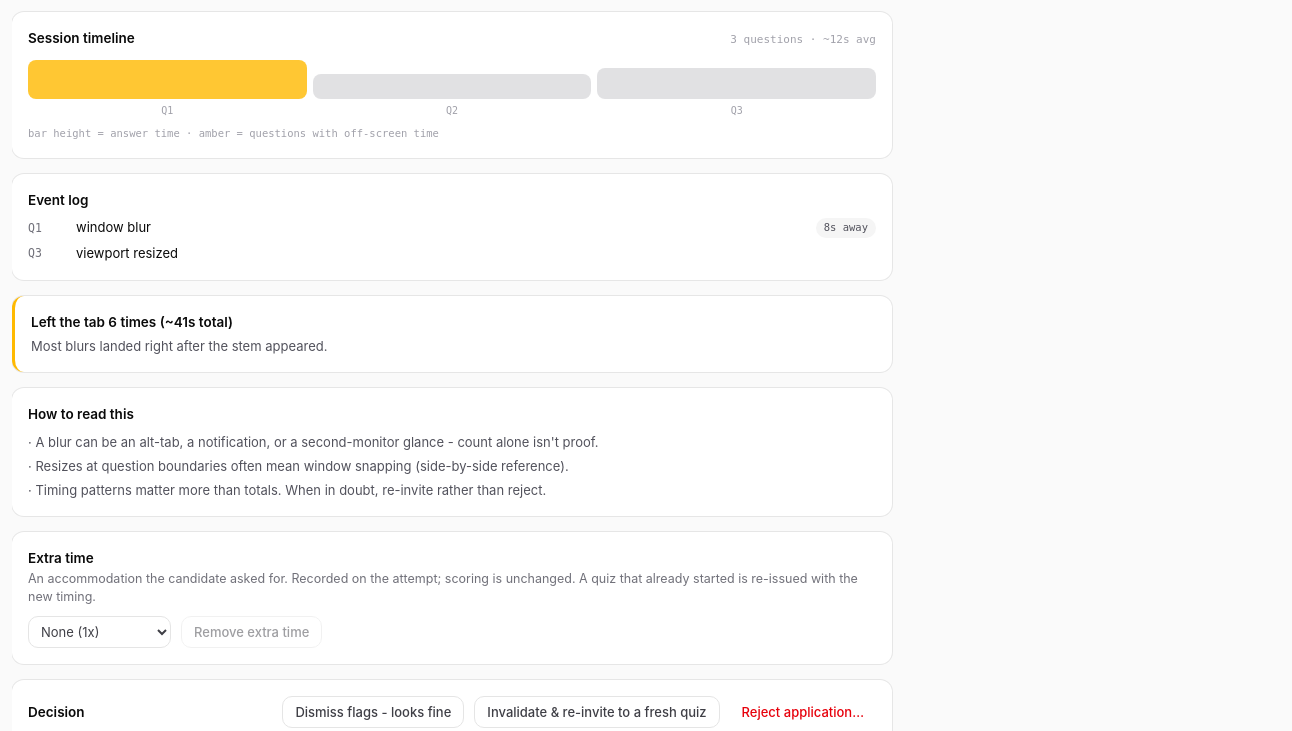
Test case: IntegrityReviewPage › re-invites only after an explicit confirm
(page scrolled)
Click the button "Invalidate & re-invite to a fresh quiz": (597, 712) [474,696,720,728]
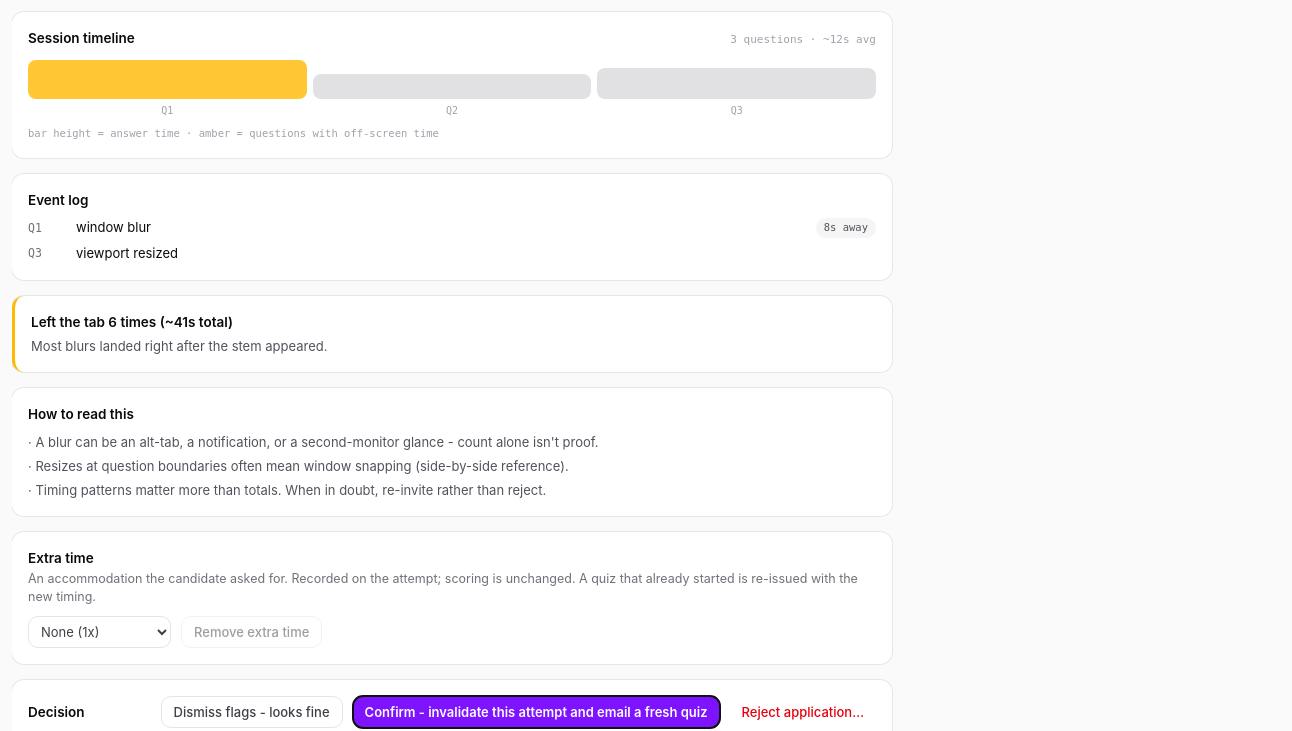
Click the button "Confirm - invalidate this attempt and email a fresh quiz": (536, 712) [353,696,720,728]
(page scrolled)
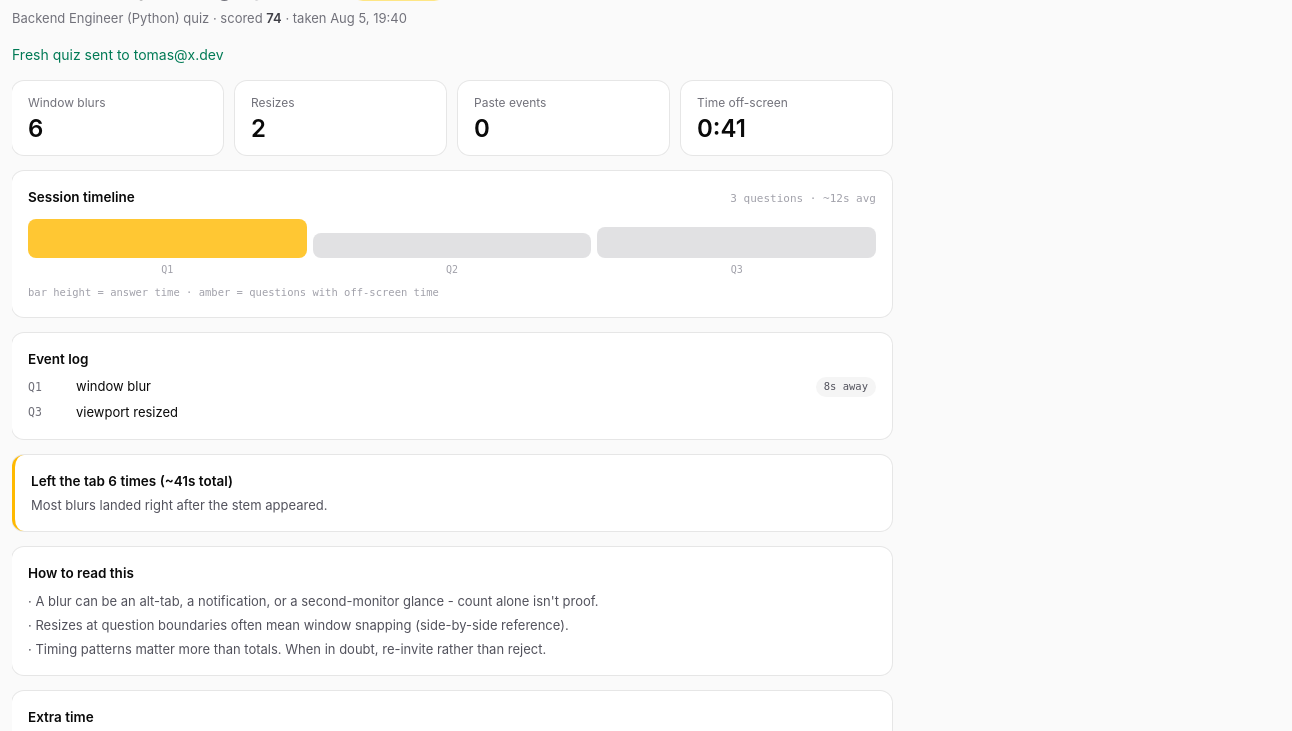
Check: the message reads "Fresh quiz sent to tomas@x.dev", box [12,46,224,62]
